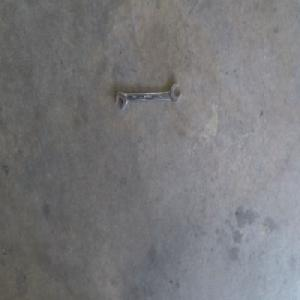Wrench: (116, 82, 181, 110)
